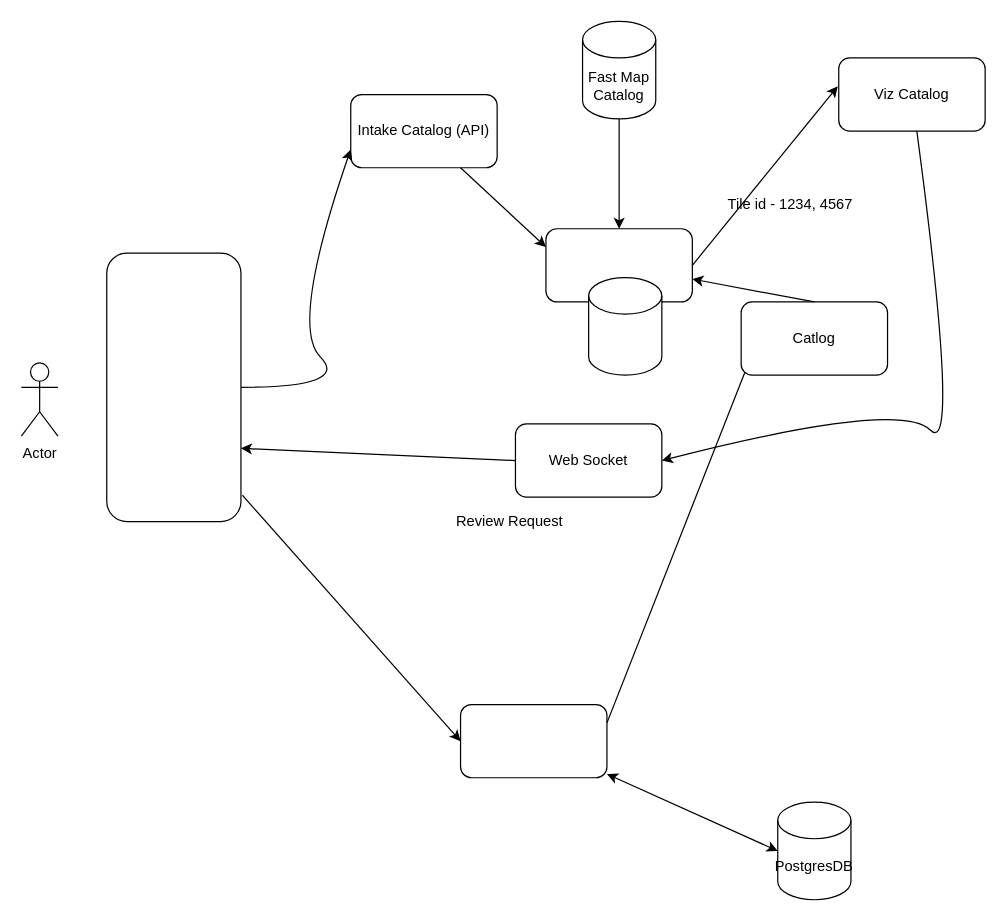
Image size: 1007x921. Some labels were removed from this diagram. Each missing label, with the centre of its shape:
"Backend API" belongs at point 533,740.
"Flink Processor" belongs at point 618,265.
"Internal state" belongs at point 624,325.
"Web app" belongs at point 173,387.
